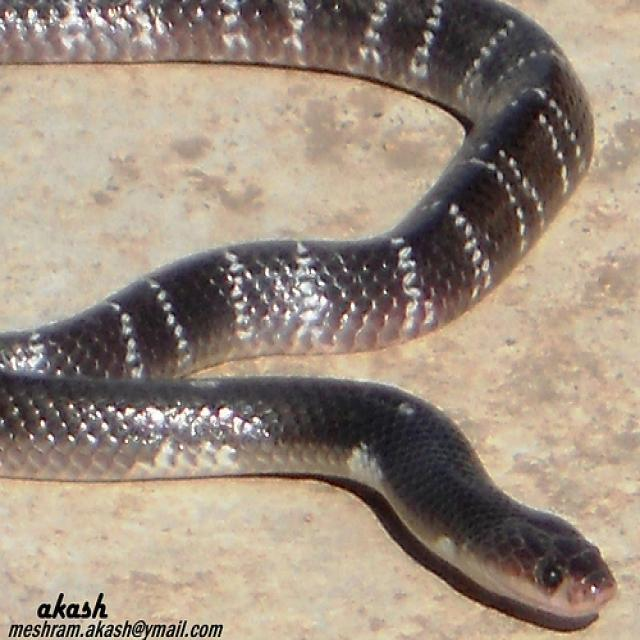Snake: (0, 0, 618, 631)
